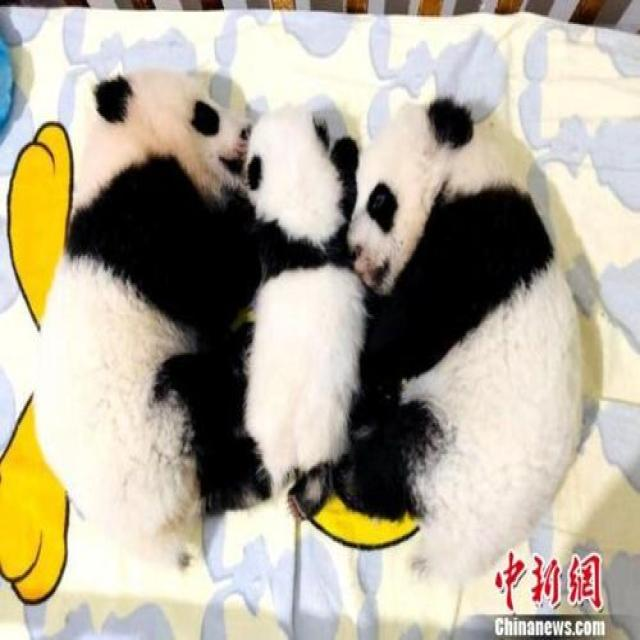panda: (32, 65, 591, 558)
